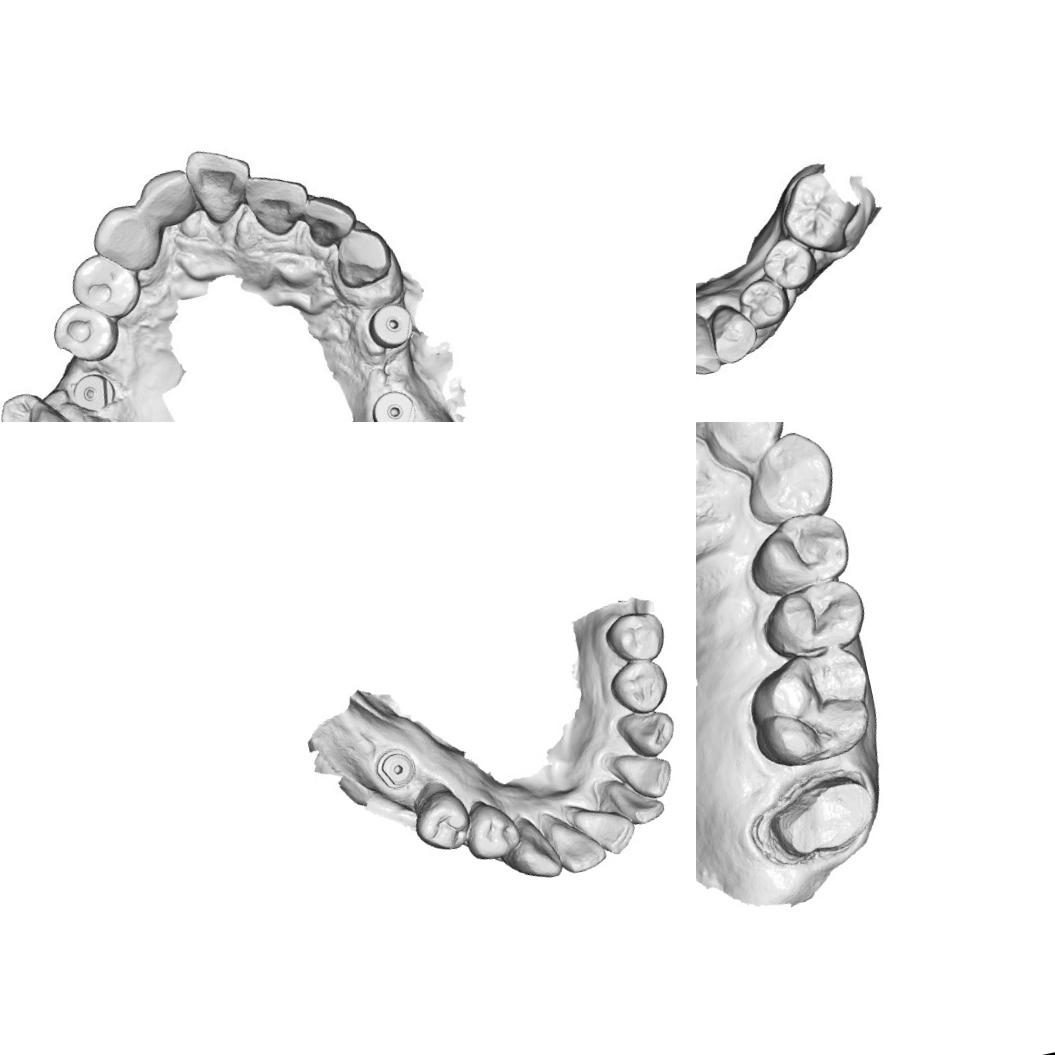canine: (733, 423, 845, 534), (85, 200, 166, 282), (326, 222, 398, 298), (497, 812, 564, 890), (612, 704, 680, 766), (704, 300, 761, 368)
crown: (754, 764, 885, 872)
implant: (365, 296, 420, 351), (68, 369, 120, 421), (371, 746, 423, 794), (366, 380, 424, 422)
incisor: (188, 145, 253, 223), (243, 171, 313, 239), (700, 422, 794, 470), (571, 800, 640, 863), (607, 773, 670, 835), (613, 748, 679, 805), (140, 167, 201, 228), (551, 816, 611, 878), (302, 190, 359, 250), (696, 308, 722, 376)
molar: (739, 642, 882, 778), (775, 164, 860, 252), (0, 381, 91, 422)
premolar: (737, 504, 862, 604), (754, 572, 875, 664), (46, 297, 120, 369), (70, 252, 142, 320), (458, 799, 526, 868), (407, 789, 472, 860), (600, 606, 670, 670), (606, 655, 672, 720), (762, 237, 822, 293), (736, 277, 789, 328)
